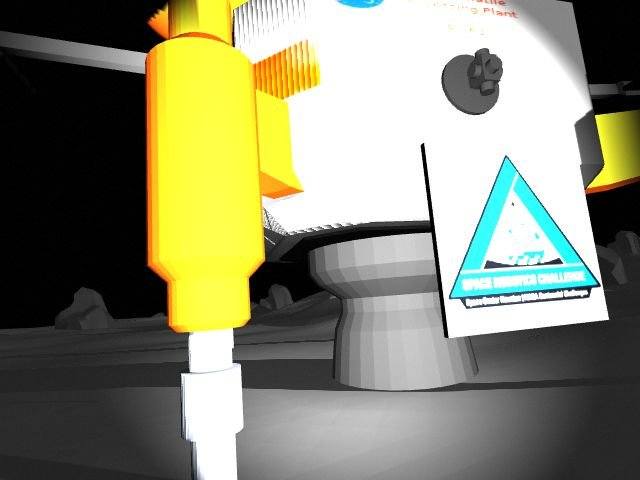basemarker: (448, 155, 603, 310)
